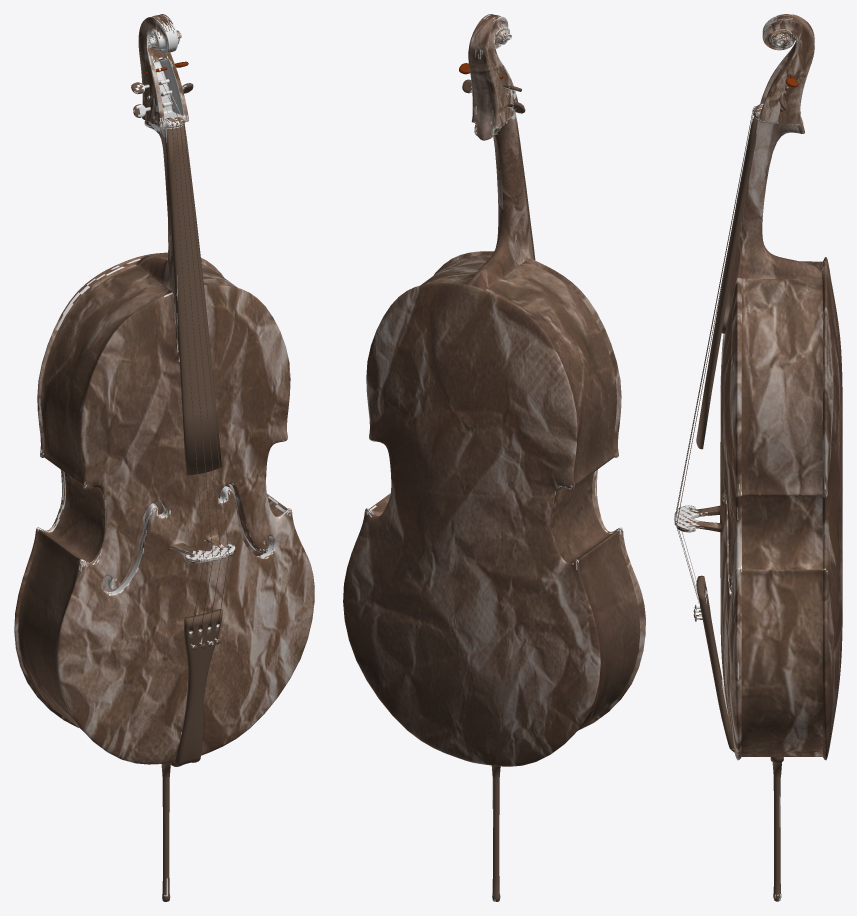
File: cello4.glb
3 renders of one model, left to right at view 1: azimuth 30°, elevation 25°; view 2: azimuth 150°, elevation 25°; view 3: azimuth 270°, elevation 25°, orthographic.
Visible parts, largest first — view 1: cello_black_cello_black; view 2: cello_black_cello_black; view 3: cello_black_cello_black.
Boxes of the visible parts, x1,y1,x2,y2 form: cello_black_cello_black: (14,14,314,901); cello_black_cello_black: (343,14,645,901); cello_black_cello_black: (674,14,842,901).
Bounding box in the file's own units: 1.41 × 4.62 × 0.7972.
Materials: 5 (2 with a texture image).
